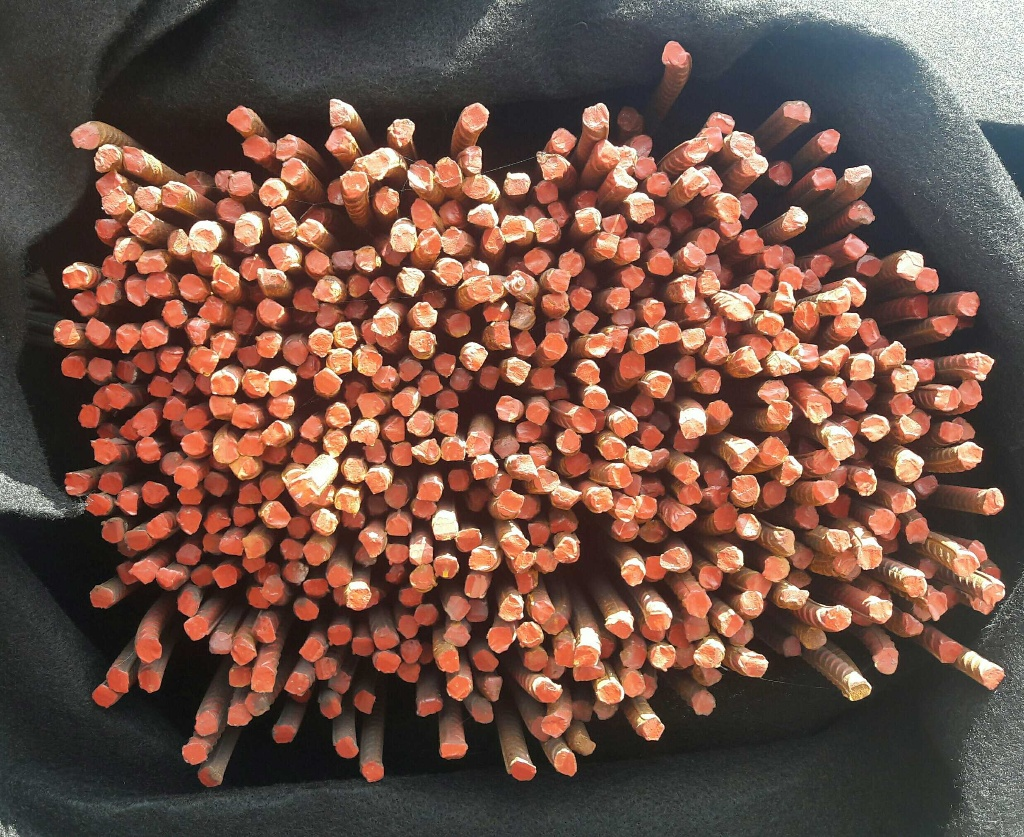dipstick: (288, 478, 320, 507), (500, 213, 532, 242), (233, 213, 263, 243), (728, 440, 758, 470), (191, 221, 220, 252), (257, 177, 288, 206), (694, 639, 725, 668), (825, 432, 856, 460), (626, 192, 654, 222), (263, 574, 289, 606), (392, 217, 415, 253), (794, 301, 819, 334), (296, 218, 325, 246), (397, 267, 425, 296), (506, 269, 534, 298), (70, 121, 100, 148), (549, 508, 579, 535), (160, 299, 188, 327), (188, 347, 216, 375), (762, 555, 790, 583), (102, 188, 131, 215), (461, 342, 488, 371), (739, 651, 768, 678), (804, 394, 831, 423), (408, 329, 434, 359), (435, 158, 461, 188), (267, 244, 298, 269), (312, 278, 343, 303), (506, 455, 537, 480), (135, 249, 168, 272), (212, 264, 239, 292), (354, 349, 382, 376), (646, 249, 673, 277), (760, 438, 788, 465), (734, 347, 762, 374), (309, 508, 338, 534), (408, 161, 434, 190), (582, 103, 608, 132), (113, 236, 143, 261), (71, 290, 101, 315), (241, 134, 271, 159), (307, 328, 332, 358), (179, 431, 209, 456), (733, 474, 758, 504), (898, 250, 923, 280), (468, 203, 499, 227), (369, 276, 396, 303), (359, 530, 386, 557), (523, 247, 550, 274), (542, 291, 569, 318), (891, 366, 918, 393), (126, 210, 154, 236), (179, 273, 205, 301), (142, 320, 168, 348), (268, 369, 296, 395), (372, 365, 400, 391), (410, 565, 438, 591), (261, 502, 290, 527), (345, 581, 370, 610), (495, 396, 524, 421), (861, 416, 890, 441), (116, 324, 140, 354), (660, 548, 690, 572), (119, 147, 145, 174), (133, 185, 159, 212), (161, 182, 188, 208), (226, 106, 253, 132), (53, 319, 80, 345), (210, 332, 236, 359), (333, 321, 360, 347), (372, 309, 398, 336), (106, 383, 133, 409), (413, 438, 439, 465), (462, 103, 488, 130), (497, 491, 524, 517), (587, 486, 614, 512), (685, 590, 711, 617), (766, 399, 792, 426), (339, 170, 367, 195), (269, 207, 294, 235), (387, 119, 415, 144), (535, 217, 560, 245), (511, 302, 536, 330), (486, 321, 511, 349), (529, 364, 557, 389), (499, 594, 524, 622), (933, 385, 961, 410), (198, 295, 222, 324), (470, 547, 499, 571), (539, 155, 568, 179), (330, 99, 353, 129), (758, 380, 788, 403), (280, 158, 306, 184), (257, 331, 283, 357), (315, 369, 341, 395), (374, 188, 400, 214), (464, 172, 490, 198), (552, 537, 578, 563), (606, 463, 632, 489), (718, 546, 744, 572), (681, 412, 707, 438), (794, 343, 820, 369), (822, 287, 848, 313), (218, 197, 245, 222), (157, 347, 184, 372), (242, 370, 267, 397), (209, 394, 236, 419), (232, 404, 259, 429), (290, 440, 317, 465), (358, 392, 383, 419), (466, 277, 493, 302), (540, 334, 567, 359), (620, 352, 645, 379), (717, 613, 744, 638), (968, 353, 993, 380), (856, 545, 883, 570), (823, 529, 850, 554), (63, 264, 91, 288), (126, 279, 150, 307), (185, 316, 209, 344), (714, 503, 738, 531), (768, 353, 800, 374), (551, 486, 580, 509), (326, 128, 352, 153), (136, 637, 161, 663), (442, 435, 467, 461), (556, 428, 581, 454), (729, 131, 755, 156), (768, 160, 793, 186), (846, 165, 871, 191), (873, 647, 898, 673), (86, 318, 110, 345), (88, 355, 112, 382), (257, 298, 284, 322), (211, 439, 238, 463), (299, 415, 323, 442), (442, 227, 466, 254), (559, 250, 583, 277), (517, 622, 544, 646), (740, 591, 764, 618), (667, 506, 694, 530), (704, 400, 731, 424), (756, 311, 783, 335), (373, 650, 401, 673), (824, 376, 847, 404), (94, 173, 123, 195), (157, 567, 186, 589), (94, 146, 119, 171), (212, 563, 237, 588), (408, 411, 433, 436), (437, 260, 462, 285), (571, 407, 596, 432), (613, 413, 638, 438), (691, 691, 716, 716), (674, 460, 699, 485), (842, 235, 867, 260), (234, 455, 260, 479), (352, 422, 378, 446), (335, 489, 361, 513), (292, 597, 318, 621), (417, 229, 441, 255), (504, 171, 530, 195), (595, 231, 619, 257), (614, 239, 640, 263), (642, 300, 666, 326), (528, 600, 554, 624), (736, 513, 760, 539), (631, 329, 657, 353), (682, 168, 706, 194), (670, 206, 694, 232), (850, 354, 874, 380), (895, 457, 921, 481), (870, 509, 894, 535), (178, 507, 201, 534), (107, 666, 130, 693), (482, 227, 505, 254), (507, 357, 530, 384), (536, 466, 559, 493), (959, 380, 982, 407), (266, 395, 294, 417), (482, 300, 510, 322), (501, 534, 529, 556), (609, 519, 637, 541), (959, 441, 981, 469), (101, 255, 126, 279), (412, 302, 437, 326), (133, 410, 157, 435), (91, 439, 116, 463), (323, 431, 347, 456), (183, 617, 208, 641), (488, 627, 512, 652), (466, 431, 490, 456), (551, 128, 576, 152), (564, 452, 589, 476), (525, 522, 550, 546), (627, 445, 652, 469), (638, 426, 663, 450), (647, 173, 672, 197), (881, 341, 906, 365), (813, 480, 838, 504), (826, 606, 851, 630), (274, 134, 297, 160), (357, 245, 380, 271), (136, 437, 159, 463), (63, 472, 89, 495), (433, 555, 459, 578), (243, 536, 269, 559), (299, 638, 325, 661), (250, 666, 273, 692), (621, 265, 644, 291), (577, 360, 600, 386), (620, 645, 646, 668), (622, 672, 645, 698), (651, 645, 674, 671), (621, 559, 644, 585), (688, 137, 711, 163), (981, 489, 1004, 515), (853, 470, 876, 496), (168, 229, 190, 256), (182, 742, 209, 764), (411, 199, 433, 226), (673, 430, 700, 452), (707, 336, 729, 363), (84, 494, 113, 514), (725, 299, 754, 319), (347, 274, 371, 298), (305, 541, 329, 565), (138, 669, 162, 693), (699, 566, 723, 590), (739, 230, 763, 254), (795, 505, 819, 529), (228, 172, 253, 195), (61, 355, 86, 378), (239, 344, 264, 367), (306, 249, 329, 274), (284, 338, 307, 363), (296, 354, 321, 377), (142, 481, 167, 504), (433, 517, 458, 540), (177, 590, 200, 615), (193, 712, 218, 735), (444, 624, 469, 647), (573, 312, 598, 335), (578, 207, 601, 232), (525, 402, 550, 425), (516, 569, 539, 594), (523, 648, 548, 671), (644, 556, 667, 581), (646, 372, 669, 397), (696, 370, 721, 393), (709, 112, 734, 135), (717, 196, 740, 221), (849, 200, 874, 223), (393, 390, 419, 412), (254, 617, 276, 643), (227, 704, 253, 726), (460, 147, 482, 173), (556, 750, 577, 777), (597, 681, 624, 702), (675, 276, 696, 303), (741, 153, 768, 174), (783, 101, 810, 122), (859, 319, 880, 346), (515, 328, 535, 356), (169, 370, 193, 393), (204, 472, 227, 496), (261, 474, 284, 498), (264, 421, 288, 444), (342, 458, 365, 482), (386, 484, 409, 508), (449, 468, 473, 491), (247, 586, 271, 609), (474, 648, 497, 672), (445, 597, 468, 621), (464, 575, 488, 598), (434, 411, 457, 435), (587, 334, 611, 357), (641, 717, 664, 741), (657, 320, 680, 344), (682, 242, 705, 266), (618, 106, 641, 130), (835, 312, 858, 336), (763, 482, 787, 505), (938, 641, 962, 664), (954, 552, 978, 575), (833, 552, 857, 575), (147, 274, 172, 296), (145, 515, 170, 537), (204, 510, 229, 532), (239, 433, 264, 455), (384, 416, 406, 441), (89, 586, 114, 608), (326, 566, 351, 588), (375, 628, 400, 650), (353, 690, 375, 715), (447, 677, 472, 699), (602, 214, 627, 236), (785, 206, 807, 231), (901, 575, 926, 597), (535, 679, 561, 700), (510, 760, 536, 781), (606, 617, 632, 638), (703, 127, 724, 153), (899, 416, 920, 442), (582, 387, 609, 407), (96, 281, 119, 304), (133, 351, 156, 374), (293, 289, 316, 312), (447, 314, 470, 337), (78, 404, 101, 427), (238, 483, 261, 506), (365, 470, 388, 493), (457, 529, 480, 552), (286, 671, 309, 694), (415, 603, 438, 626), (466, 599, 489, 622), (634, 495, 657, 518), (633, 157, 656, 180), (663, 41, 686, 64), (752, 270, 775, 293), (115, 360, 137, 384), (97, 472, 121, 494), (116, 491, 138, 515), (175, 468, 199, 490), (281, 538, 305, 560), (93, 685, 117, 707), (335, 736, 359, 758), (472, 456, 496, 478), (602, 437, 626, 459), (574, 645, 598, 667), (648, 608, 672, 630), (613, 166, 637, 188), (648, 226, 672, 248), (818, 128, 840, 152), (812, 168, 836, 190), (917, 267, 939, 291), (868, 600, 892, 622), (328, 402, 349, 427), (219, 535, 244, 556), (175, 544, 200, 565), (284, 562, 309, 583), (326, 624, 351, 645), (401, 639, 422, 664), (678, 485, 703, 506), (889, 394, 914, 415), (792, 546, 813, 571), (907, 517, 928, 542), (400, 356, 420, 382), (856, 256, 882, 276), (386, 516, 413, 535), (102, 519, 124, 542), (410, 542, 433, 564), (606, 286, 629, 308), (632, 393, 654, 416), (780, 266, 803, 288), (958, 292, 980, 315), (915, 474, 937, 497), (417, 480, 441, 501), (132, 562, 156, 583), (316, 656, 337, 680), (517, 421, 541, 442), (542, 716, 566, 737), (912, 360, 936, 381), (783, 588, 807, 609), (981, 581, 1005, 602), (95, 218, 120, 238), (549, 268, 569, 293), (615, 496, 635, 521), (699, 269, 719, 294), (124, 531, 151, 549), (739, 193, 757, 220), (412, 497, 434, 519), (287, 517, 309, 539), (631, 135, 653, 157), (811, 254, 833, 276), (149, 377, 172, 398), (247, 695, 270, 716), (199, 765, 222, 786), (698, 230, 719, 253), (982, 666, 1003, 689), (892, 491, 915, 512), (435, 353, 455, 377), (231, 506, 255, 526), (392, 442, 412, 466), (230, 644, 254, 664), (228, 666, 252, 686), (682, 327, 706, 347), (933, 314, 957, 334), (939, 422, 963, 442), (303, 578, 328, 597), (162, 453, 183, 475), (210, 632, 231, 654), (329, 671, 350, 693), (536, 181, 558, 202), (804, 627, 826, 648), (437, 651, 460, 671), (419, 376, 442, 396), (600, 139, 620, 162), (439, 742, 466, 759), (315, 306, 339, 325), (161, 401, 185, 420), (385, 544, 409, 563), (360, 762, 384, 781), (480, 364, 499, 388), (572, 287, 591, 311), (764, 245, 783, 269), (201, 532, 222, 553), (192, 565, 213, 586), (320, 697, 341, 718), (471, 701, 492, 722), (273, 724, 295, 744), (352, 636, 374, 656), (399, 616, 419, 638), (399, 662, 421, 682), (648, 447, 668, 469), (331, 249, 354, 268), (183, 408, 206, 427), (419, 699, 442, 718), (676, 354, 695, 377), (848, 680, 871, 699), (485, 678, 503, 702), (451, 369, 471, 390), (903, 615, 923, 636), (435, 391, 457, 410), (803, 270, 822, 292), (574, 190, 600, 206), (911, 295, 929, 318), (782, 635, 801, 656), (400, 588, 422, 606), (120, 420, 138, 441), (969, 540, 987, 561)
